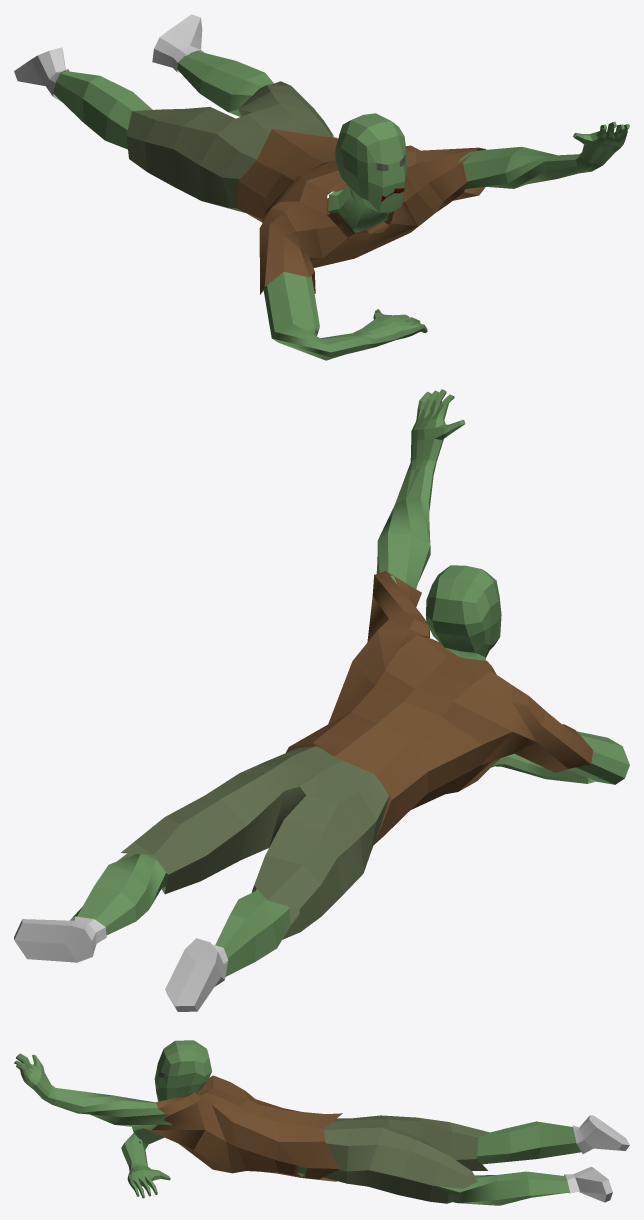
File: ZombieCrawl(108).obj
The picture shows the model from 3 angles, top to bottom: view 1: azimuth 30°, elevation 25°; view 2: azimuth 150°, elevation 25°; view 3: azimuth 270°, elevation 25°; orthographic projection. The views are drawn at different scales.
Visible parts, largest first — view 1: Object001; view 2: Object001; view 3: Object001.
Part boxes in pixels (x1,y1,x2,y2): Object001: (14,14,629,360); Object001: (14,389,629,1011); Object001: (14,1040,629,1205).
Size of the model in its own units: 28.26 by 24.54 by 75.38.
